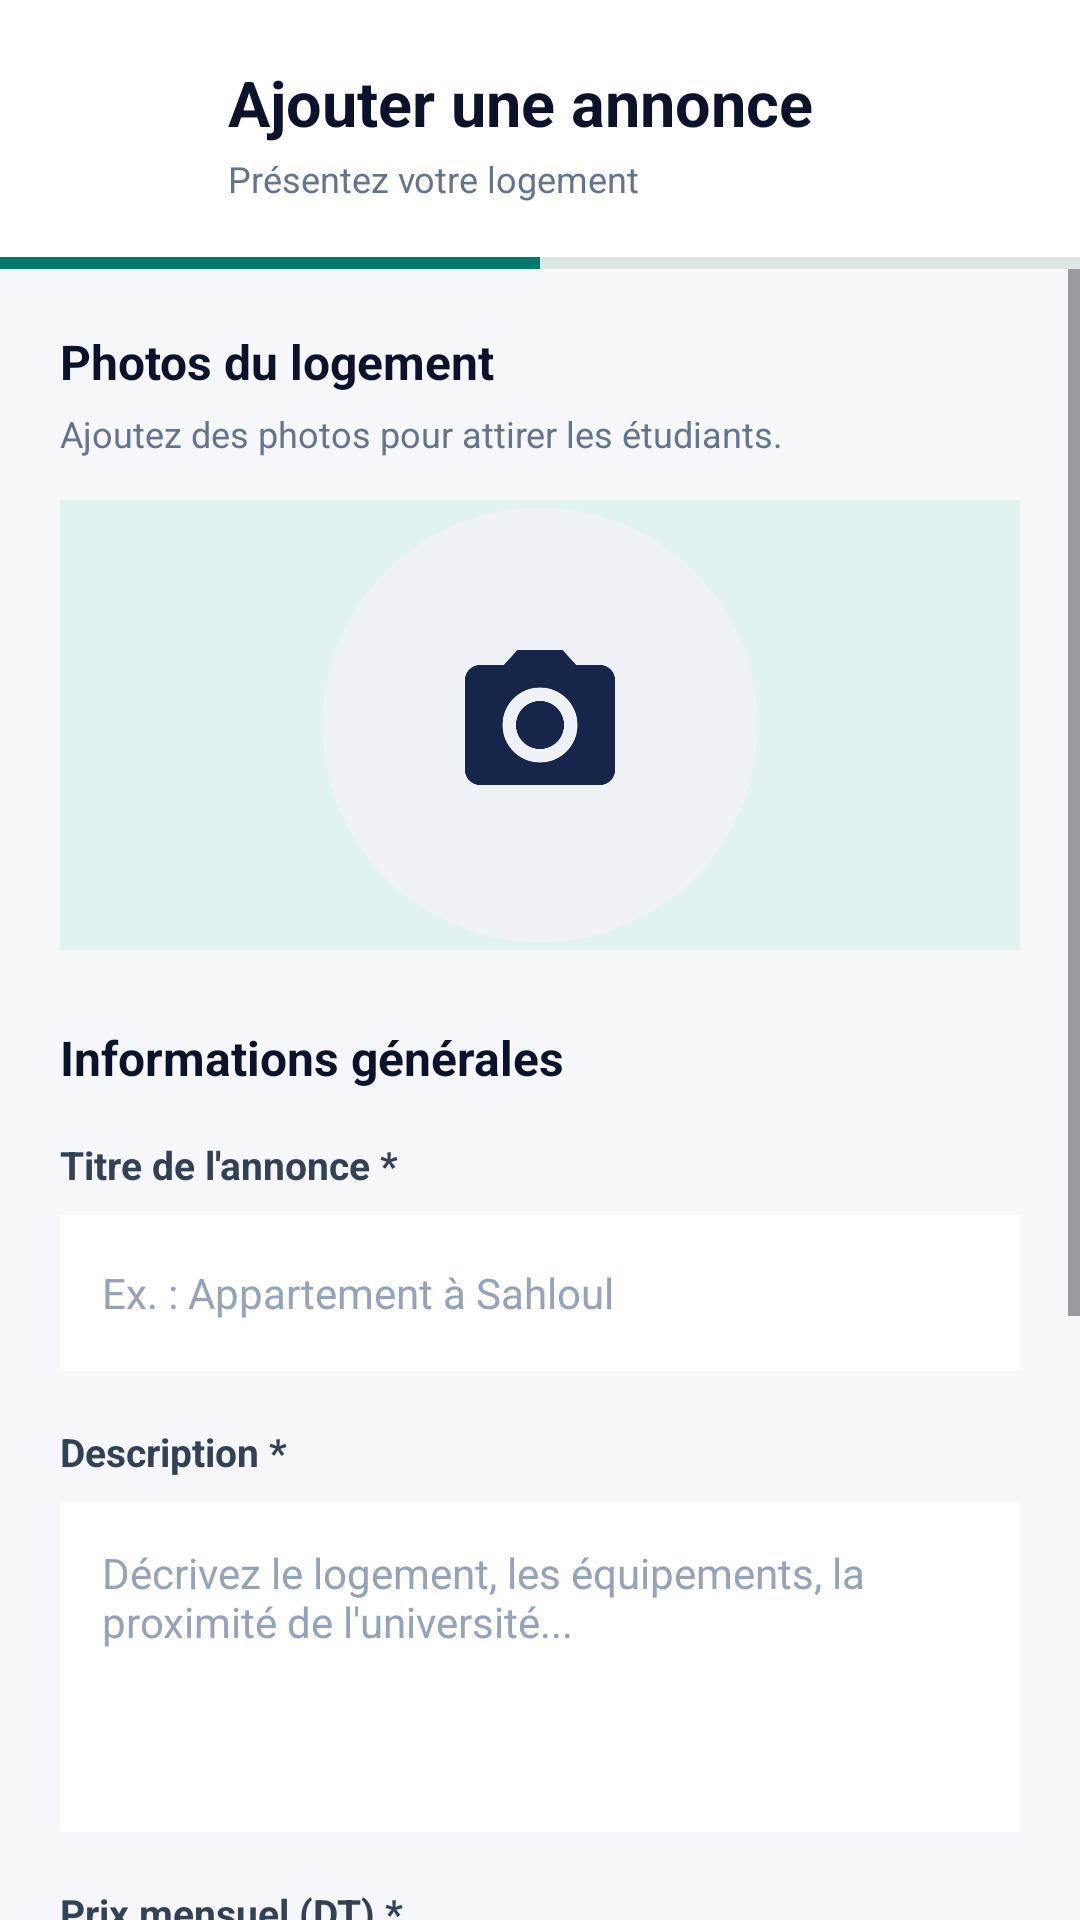

Icons on this 1080w x 1920h Android screen, each with its box as rect(x1, y1, x2, y2):
Ajouter des photos: rect(465, 650, 615, 785)
